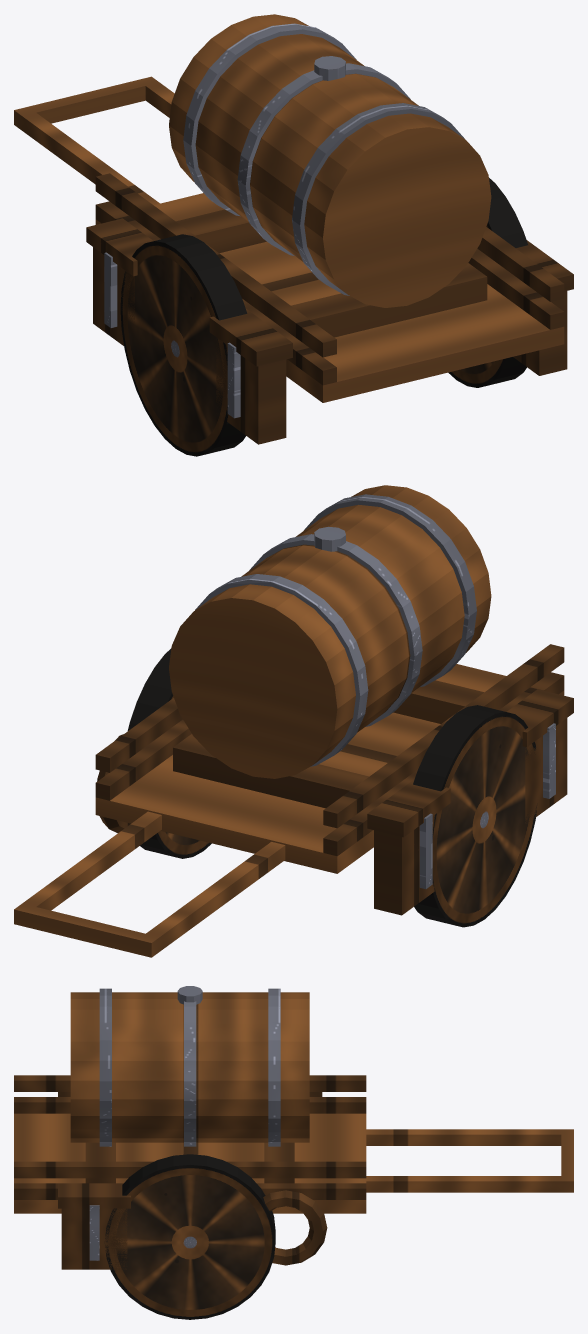
Rendered from holzwagen_fass_blur_bags.fbx.
The picture shows the model from 3 angles, top to bottom: view 1: azimuth 30°, elevation 25°; view 2: azimuth 150°, elevation 25°; view 3: azimuth 270°, elevation 25°; orthographic projection. The views are drawn at different scales.
Visible parts, largest first — view 1: Holzwagen_Fass_blur; view 2: Holzwagen_Fass_blur; view 3: Holzwagen_Fass_blur.
Part boxes in pixels (bbox=[...]): Holzwagen_Fass_blur: bbox=[14, 14, 573, 456]; Holzwagen_Fass_blur: bbox=[14, 485, 573, 957]; Holzwagen_Fass_blur: bbox=[14, 986, 573, 1319].
Size of the model in its own units: 114 by 118 by 222.
